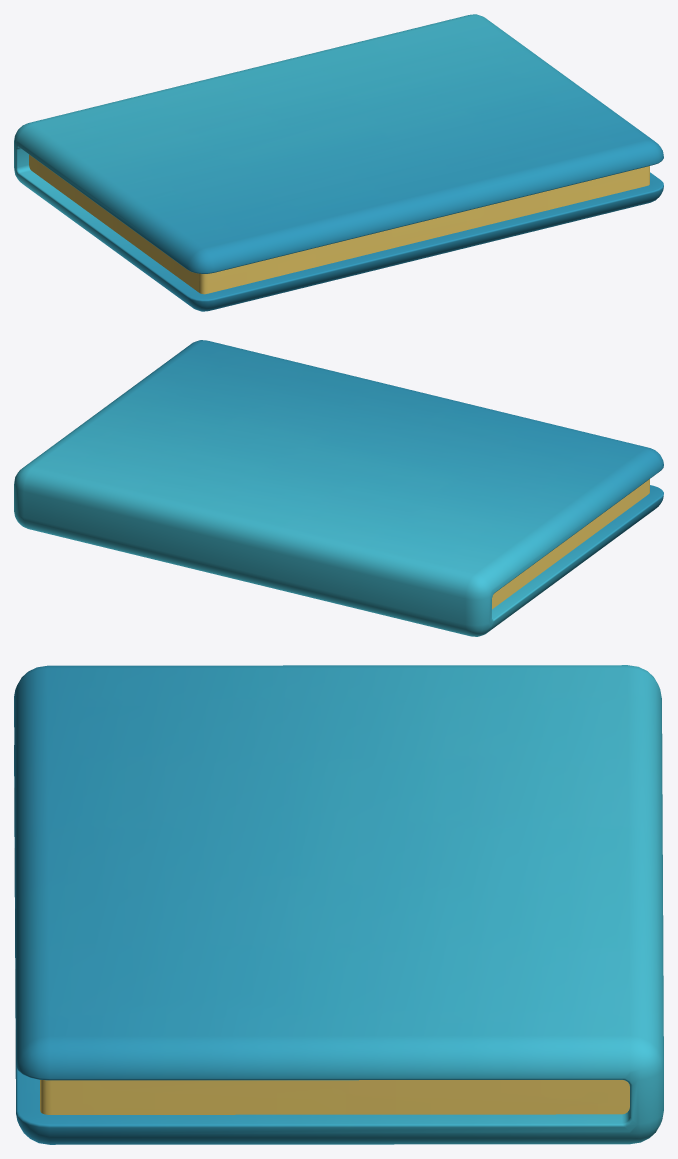
Rendered from book.fbx.
3 renders of one model, top to bottom at view 1: azimuth 30°, elevation 25°; view 2: azimuth 150°, elevation 25°; view 3: azimuth 270°, elevation 25°, orthographic. The views are drawn at different scales.
Parts seen in each view (by area): view 1: Cube.025; view 2: Cube.025; view 3: Cube.025.
Part boxes in pixels (x1=…): Cube.025: x1=14, y1=14, x2=663, y2=311; Cube.025: x1=14, y1=340, x2=663, y2=636; Cube.025: x1=14, y1=665, x2=663, y2=1144.
Size of the model in its own units: 195 by 24.24 by 135.
